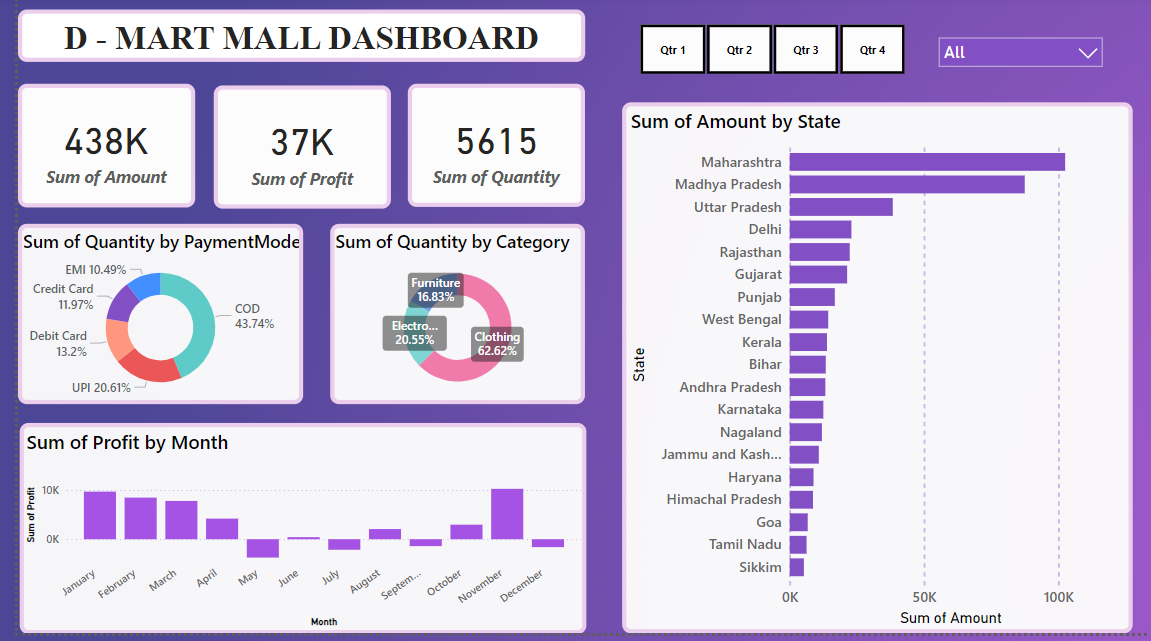

Layout of this report page (visuals, bound fields, positions):
{"tool":"powerbi","page":{"name":"D-Mart Dashboard","canvas":[1280,720],"ordinal":0},"visuals":[{"type":"textbox","box":[0,15.3,641,59.1],"z":0},{"type":"card","fields":{"Values":["Sum(details.Amount)"]},"box":[0,99.2,200,140],"z":1000},{"type":"card","fields":{"Values":["Sum(details.Profit)"]},"box":[221.3,101.1,200.3,139.3],"z":2000},{"type":"card","fields":{"Values":["Sum(details.Quantity)"]},"box":[440.7,99.2,200.3,139.3],"z":3000},{"type":"slicer","fields":{"Values":["orders.Order Date.Variation.Date Hierarchy.Quarter"]},"box":[682.6,30.6,338.4,59.3],"z":4000},{"type":"slicer","fields":{"Values":["details.PaymentMode"]},"box":[1034.5,40.2,198.9,44],"z":5000},{"type":"clusteredBarChart","fields":{"Y":["Sum(details.Amount)"],"Category":["orders.State"]},"box":[682.6,120.5,577.5,600.4],"z":6000},{"type":"donutChart","fields":{"Y":["Sum(details.Quantity)"],"Category":["details.Category"]},"box":[352.9,257.5,288,204.1],"z":7000},{"type":"donutChart","fields":{"Y":["Sum(details.Quantity)"],"Category":["details.PaymentMode"]},"box":[0,257.5,322.4,204.1],"z":8000},{"type":"columnChart","fields":{"Category":["orders.Order Date.Variation.Date Hierarchy.Month"],"Y":["Sum(details.Profit)"]},"box":[1.9,481.9,640.6,239],"z":9000}]}

Visuals, with their boxes in screenshot pixels (x1, y1, x2, y2), scaled from the page's 1280x720 canvas onto the 1151x641 screenshot:
textbox: <region>0, 14, 576, 66</region>
card - Sum(details.Amount): <region>0, 88, 180, 213</region>
card - Sum(details.Profit): <region>199, 90, 379, 214</region>
card - Sum(details.Quantity): <region>396, 88, 576, 212</region>
slicer - orders.Order Date.Variation.Date Hierarchy.Quarter: <region>614, 27, 918, 80</region>
slicer - details.PaymentMode: <region>930, 36, 1109, 75</region>
clusteredBarChart - Sum(details.Amount) x orders.State: <region>614, 107, 1133, 640</region>
donutChart - Sum(details.Quantity) x details.Category: <region>317, 229, 576, 411</region>
donutChart - Sum(details.Quantity) x details.PaymentMode: <region>0, 229, 290, 411</region>
columnChart - orders.Order Date.Variation.Date Hierarchy.Month x Sum(details.Profit): <region>2, 429, 578, 640</region>
